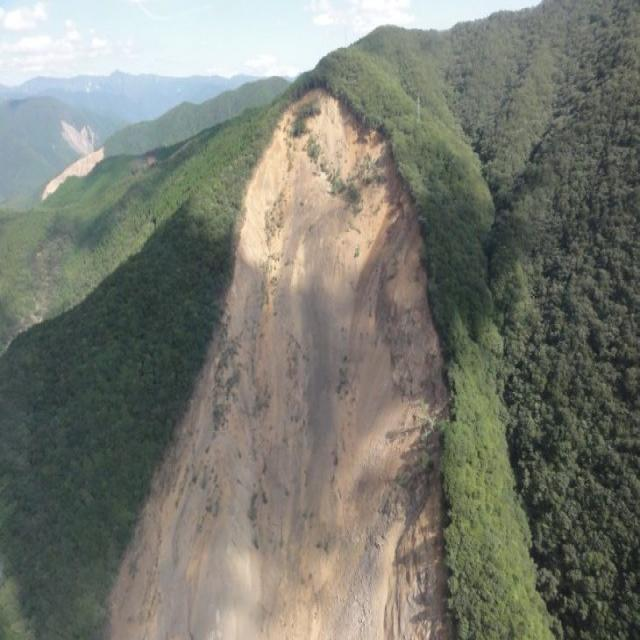Debris-flow: (109, 90, 451, 638), (45, 151, 104, 198), (62, 122, 71, 131)
